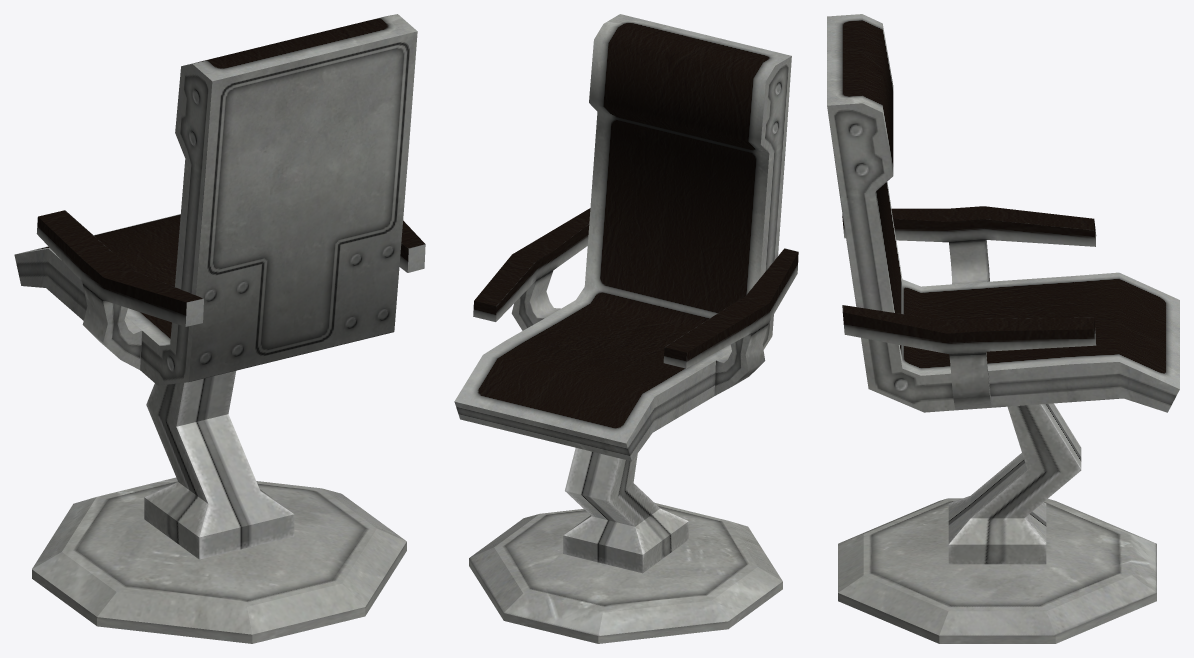
Rendered from Obj_Chair_1.FBX.
3 views of the same model, side by side, from view 1: azimuth 30°, elevation 25°; view 2: azimuth 150°, elevation 25°; view 3: azimuth 270°, elevation 25° (orthographic). The views are drawn at different scales.
Parts seen in each view (by area): view 1: Chair_1; view 2: Chair_1; view 3: Chair_1.
Boxes of the visible parts, x1,y1,x2,y2 form: Chair_1: [14, 14, 425, 643]; Chair_1: [454, 14, 798, 643]; Chair_1: [827, 14, 1179, 643].
Size of the model in its own units: 1.2 by 2.15 by 1.33.
